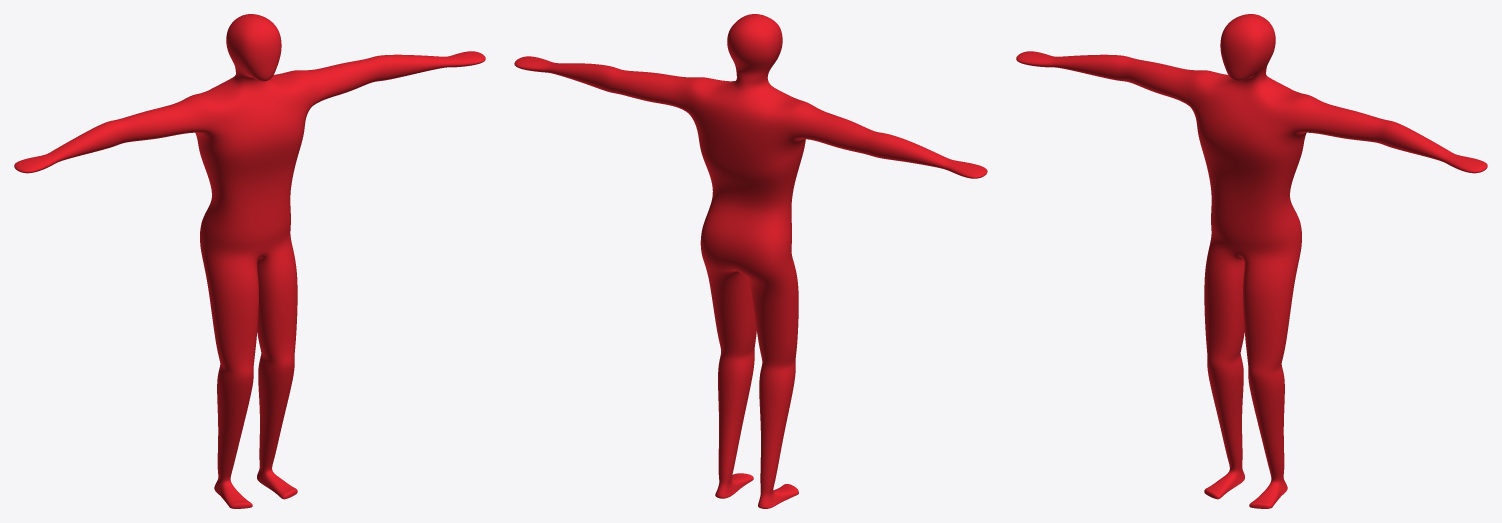
The model's file is perfectHuman.fbx.
3 renders of one model, left to right at view 1: azimuth 30°, elevation 25°; view 2: azimuth 150°, elevation 25°; view 3: azimuth 330°, elevation 25°, orthographic.
Visible parts, largest first — view 1: human; view 2: human; view 3: human.
Part boxes in pixels (<box>): human: <box>14,14,485,508</box>; human: <box>514,14,987,508</box>; human: <box>1016,14,1487,508</box>.
Size of the model in its own units: 198 by 192 by 28.67.
